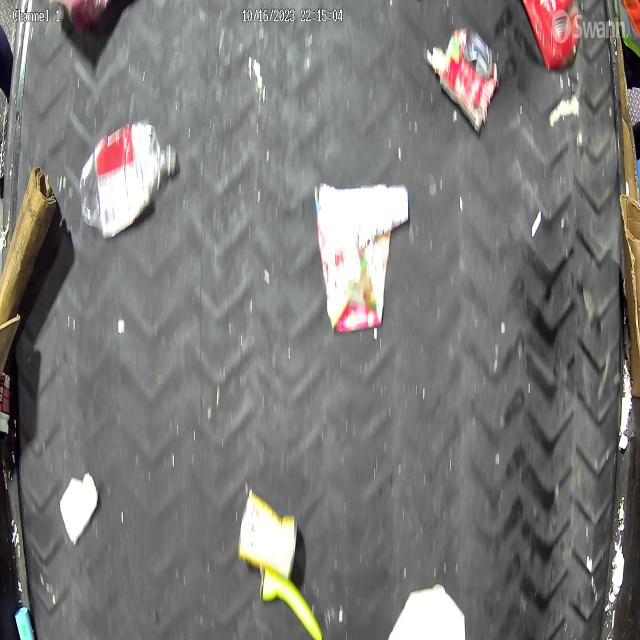can: (439, 26, 498, 133), (238, 488, 298, 580)
milk_jug: (387, 584, 469, 640)
plastic_bottle: (80, 120, 179, 234)
